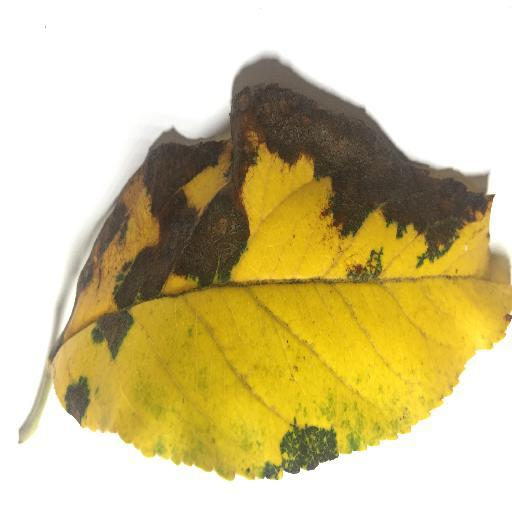Brown_Spot: (77, 103, 504, 288), (256, 418, 335, 479), (84, 314, 143, 356), (62, 374, 100, 428)
